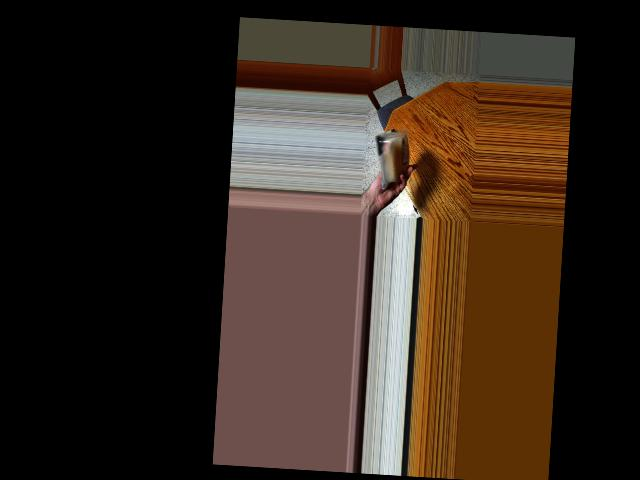cheese: (377, 132, 410, 180)
